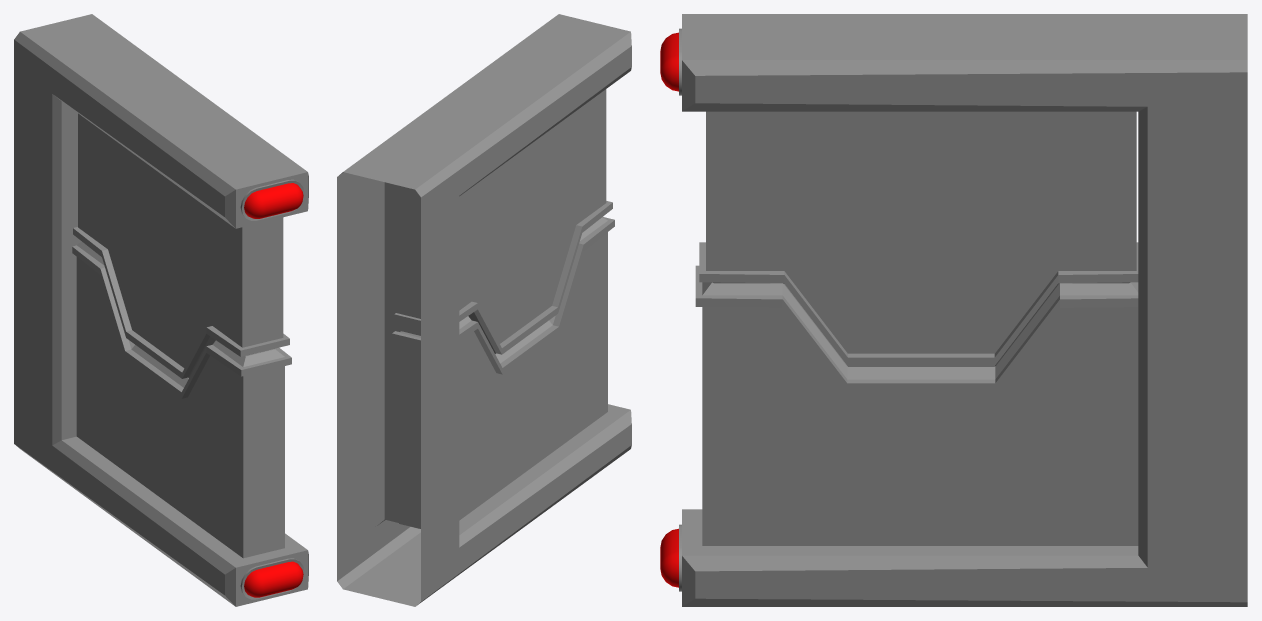
Rendered from Door.FBX.
The picture shows the model from 3 angles, left to right: view 1: azimuth 30°, elevation 25°; view 2: azimuth 150°, elevation 25°; view 3: azimuth 270°, elevation 25°; orthographic projection. The views are drawn at different scales.
Visible parts, largest first — view 1: Door, Door_Bot, Door_Top, Light_Dynamic_1, Light_Dynamic; view 2: Door, Door_Bot, Door_Top; view 3: Door, Door_Bot, Door_Top, Light_Dynamic_1, Light_Dynamic.
Part boxes in pixels (x1,y1,x2,y2): Door: [14, 14, 308, 606]; Door_Bot: [72, 242, 291, 558]; Door_Top: [73, 113, 289, 378]; Light_Dynamic_1: [240, 558, 304, 599]; Light_Dynamic: [240, 179, 304, 220]; Door: [337, 14, 631, 606]; Door_Bot: [392, 217, 614, 528]; Door_Top: [394, 89, 612, 354]; Door: [682, 14, 1247, 606]; Door_Bot: [695, 265, 1138, 545]; Door_Top: [699, 111, 1138, 366]; Light_Dynamic_1: [660, 524, 681, 591]; Light_Dynamic: [660, 28, 681, 95].
Size of the model in its own units: 67.18 by 319 by 311.
